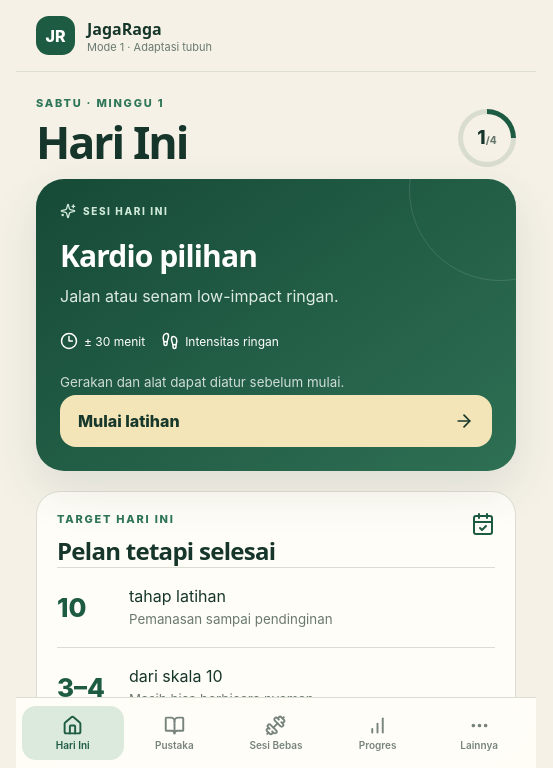
it: shows five destinations and opens the movement library
Check: the navigation bar named "navigasi utama" shows "Hari Ini", box [22,706,124,760]
Check: the navigation bar named "navigasi utama" shows "Sesi Bebas", box [225,706,327,760]
Click the button "Pustaka" at (174,733), box [124,706,225,760]
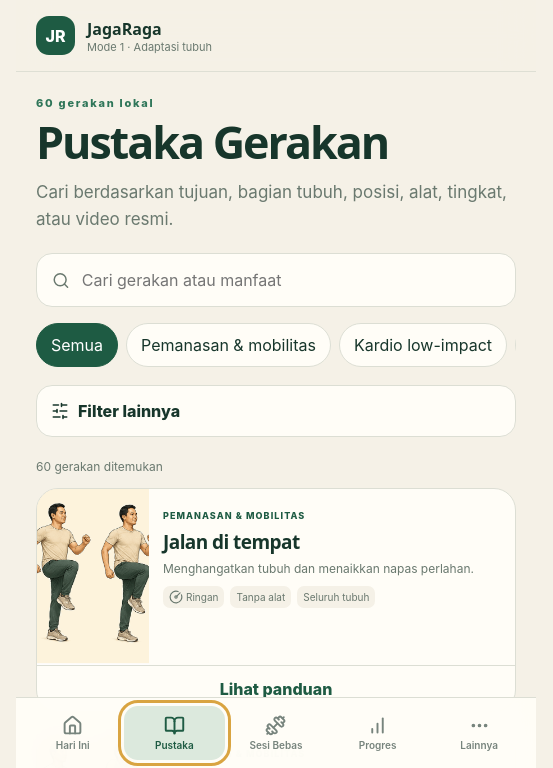
Check: the heading "Pustaka Gerakan" is shown, box [36,111,388,172]
